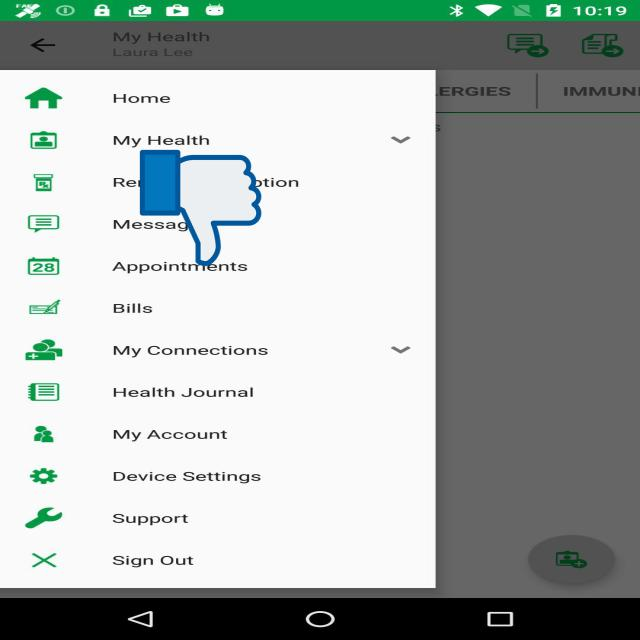obstruction: (140, 147, 261, 269)
